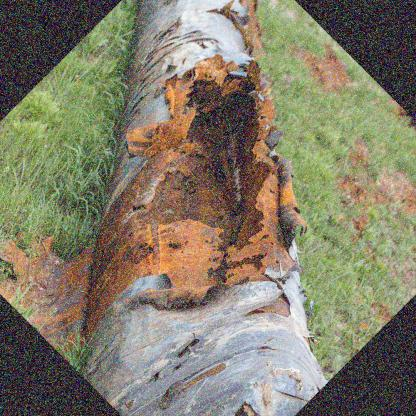burst: (144, 34, 311, 315)
